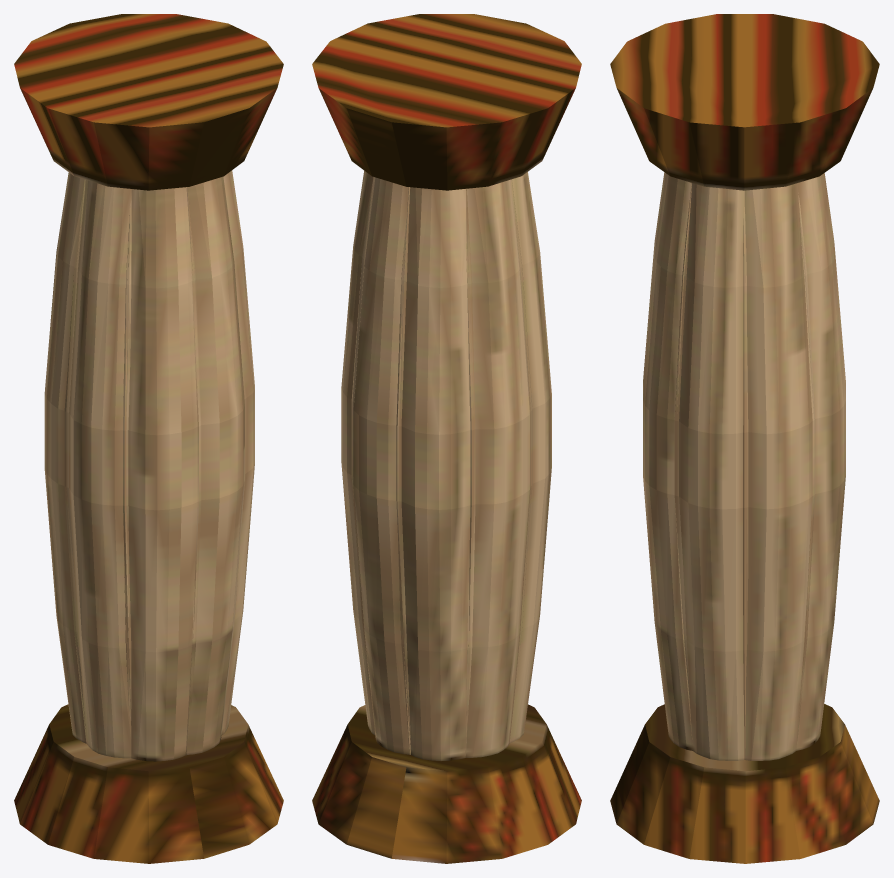
File: Columb1.glb
The picture shows the model from 3 angles, left to right: view 1: azimuth 30°, elevation 25°; view 2: azimuth 150°, elevation 25°; view 3: azimuth 270°, elevation 25°; orthographic projection.
Visible parts, largest first — view 1: Columb1; view 2: Columb1; view 3: Columb1.
Part boxes in pixels (left/top/right/bottom): Columb1: left=14, top=14, right=283, bottom=863; Columb1: left=312, top=14, right=581, bottom=863; Columb1: left=610, top=14, right=879, bottom=863.
Bounding box in the file's own units: 123 × 373 × 124.
Materials: 1 (1 with a texture image).
